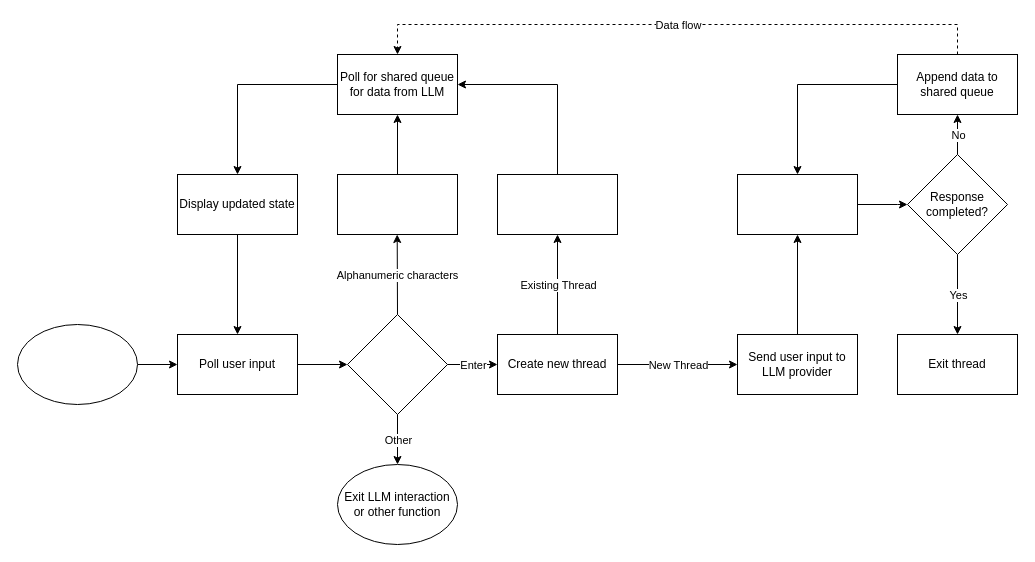
Image size: 1035x562. Some labels were removed from this diagram. Here are the shapes that lost their labels. From the top down, the centre of each, then its label:
At (x=397, y=204): "Append to existing user input text".
At (x=557, y=204): "Add placeholder to response text".
At (x=797, y=204): "Poll incoming stream".
At (x=77, y=364): "Start LLM interaction".
At (x=397, y=364): "Which key pressed?".
